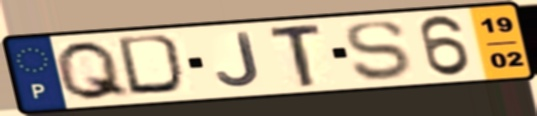6: (415, 14, 473, 78)
D: (113, 32, 193, 98)
J: (213, 30, 264, 90)
Q: (51, 38, 135, 103)
S: (342, 18, 413, 83)
T: (267, 21, 326, 90)
